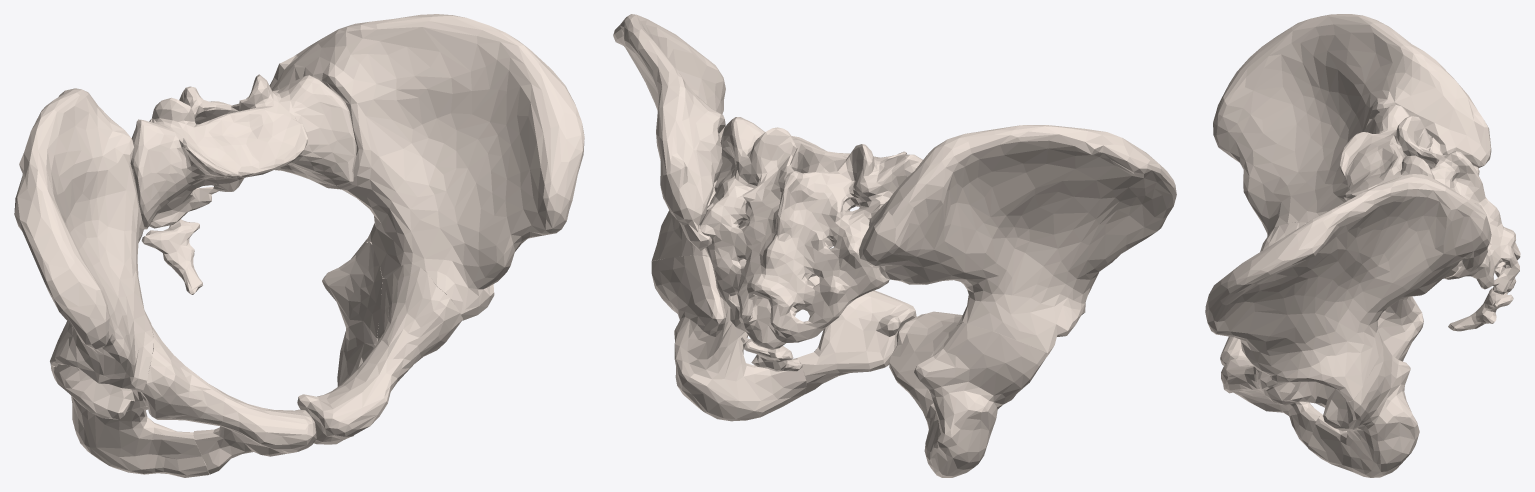
File: pelvis-preview.glb
3 renders of one model, left to right at view 1: azimuth 30°, elevation 25°; view 2: azimuth 150°, elevation 25°; view 3: azimuth 270°, elevation 25°, orthographic. The views are drawn at different scales.
Parts seen in each view (by area): view 1: VH_F_ilium_compact_bone_L, VH_F_ilium_compact_bone_R, VH_F_sacrum, VH_F_pubis_compact_bone_L, VH_F_pubis_compact_bone_R, VH_F_ischium_compact_bone_R, VH_F_ischium_compact_bone_L, VH_F_coccyx; view 2: VH_F_ilium_compact_bone_R, VH_F_sacrum, VH_F_ilium_compact_bone_L, VH_F_ischium_compact_bone_L, VH_F_ischium_compact_bone_R, VH_F_pubis_compact_bone_L, VH_F_pubis_compact_bone_R, VH_F_coccyx; view 3: VH_F_ilium_compact_bone_L, VH_F_ilium_compact_bone_R, VH_F_sacrum, VH_F_ischium_compact_bone_L, VH_F_pubis_compact_bone_L, VH_F_ischium_compact_bone_R, VH_F_coccyx, VH_F_pubis_compact_bone_R.
Part boxes in pixels (left/top/right/bottom): VH_F_ilium_compact_bone_L: left=269, top=14, right=584, bottom=320; VH_F_ilium_compact_bone_R: left=14, top=88, right=153, bottom=392; VH_F_sacrum: left=130, top=74, right=356, bottom=229; VH_F_pubis_compact_bone_L: left=297, top=263, right=462, bottom=444; VH_F_pubis_compact_bone_R: left=140, top=325, right=316, bottom=474; VH_F_ischium_compact_bone_R: left=50, top=364, right=209, bottom=477; VH_F_ischium_compact_bone_L: left=322, top=238, right=383, bottom=436; VH_F_coccyx: left=141, top=219, right=202, bottom=294; VH_F_ilium_compact_bone_R: left=859, top=125, right=1176, bottom=354; VH_F_sacrum: left=700, top=117, right=922, bottom=349; VH_F_ilium_compact_bone_L: left=613, top=14, right=745, bottom=261; VH_F_ischium_compact_bone_L: left=651, top=255, right=806, bottom=421; VH_F_ischium_compact_bone_R: left=914, top=322, right=1047, bottom=477; VH_F_pubis_compact_bone_L: left=740, top=259, right=916, bottom=394; VH_F_pubis_compact_bone_R: left=889, top=311, right=962, bottom=420; VH_F_coccyx: left=741, top=336, right=802, bottom=371; VH_F_ilium_compact_bone_L: left=1205, top=174, right=1491, bottom=401; VH_F_ilium_compact_bone_R: left=1213, top=14, right=1491, bottom=236; VH_F_sacrum: left=1340, top=105, right=1520, bottom=294; VH_F_ischium_compact_bone_L: left=1308, top=341, right=1419, bottom=477; VH_F_pubis_compact_bone_L: left=1221, top=357, right=1322, bottom=447; VH_F_ischium_compact_bone_R: left=1377, top=296, right=1423, bottom=361; VH_F_coccyx: left=1448, top=287, right=1513, bottom=331; VH_F_pubis_compact_bone_R: left=1220, top=222, right=1306, bottom=365.
Size of the model in its own units: 0.3166 by 0.2116 by 0.1828.
